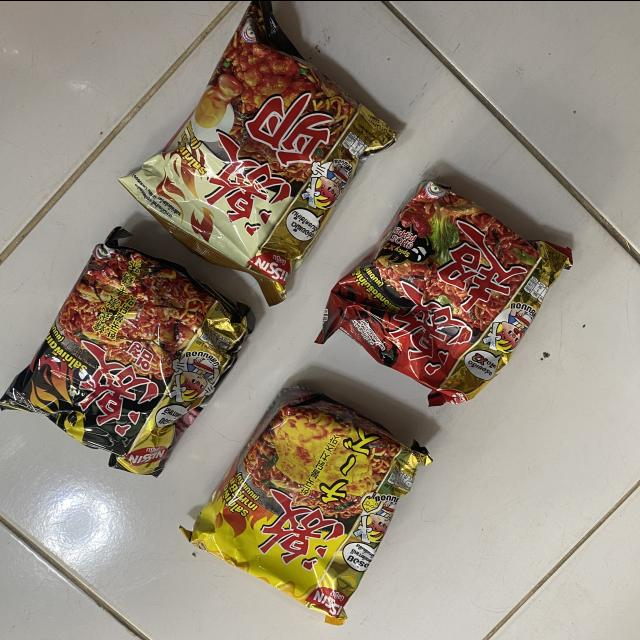plastik: (119, 0, 396, 305), (0, 227, 254, 474), (181, 386, 432, 625), (315, 181, 572, 405)
